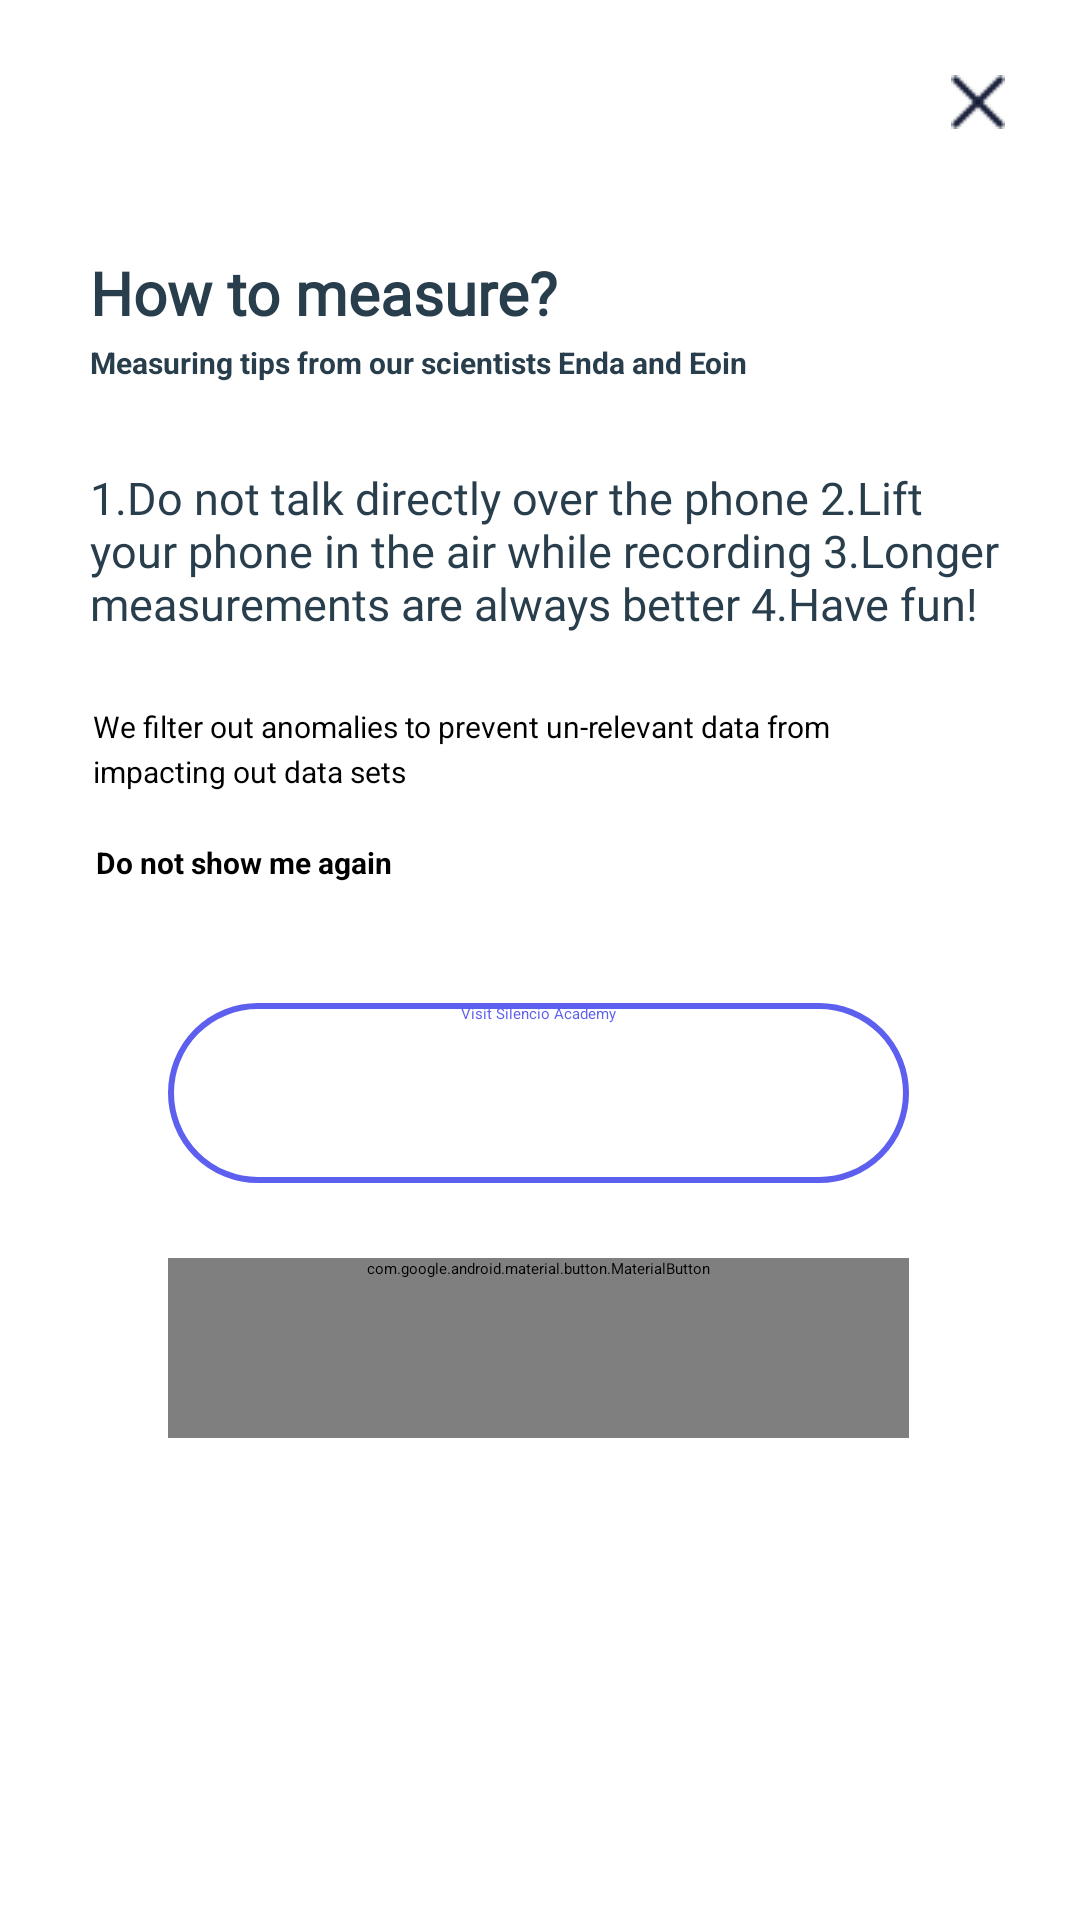

Icon bounding boxes for this 1080×1920 phone screenshot, format [x1, y1, x2, y2]:
cross: [951, 75, 1005, 129]
